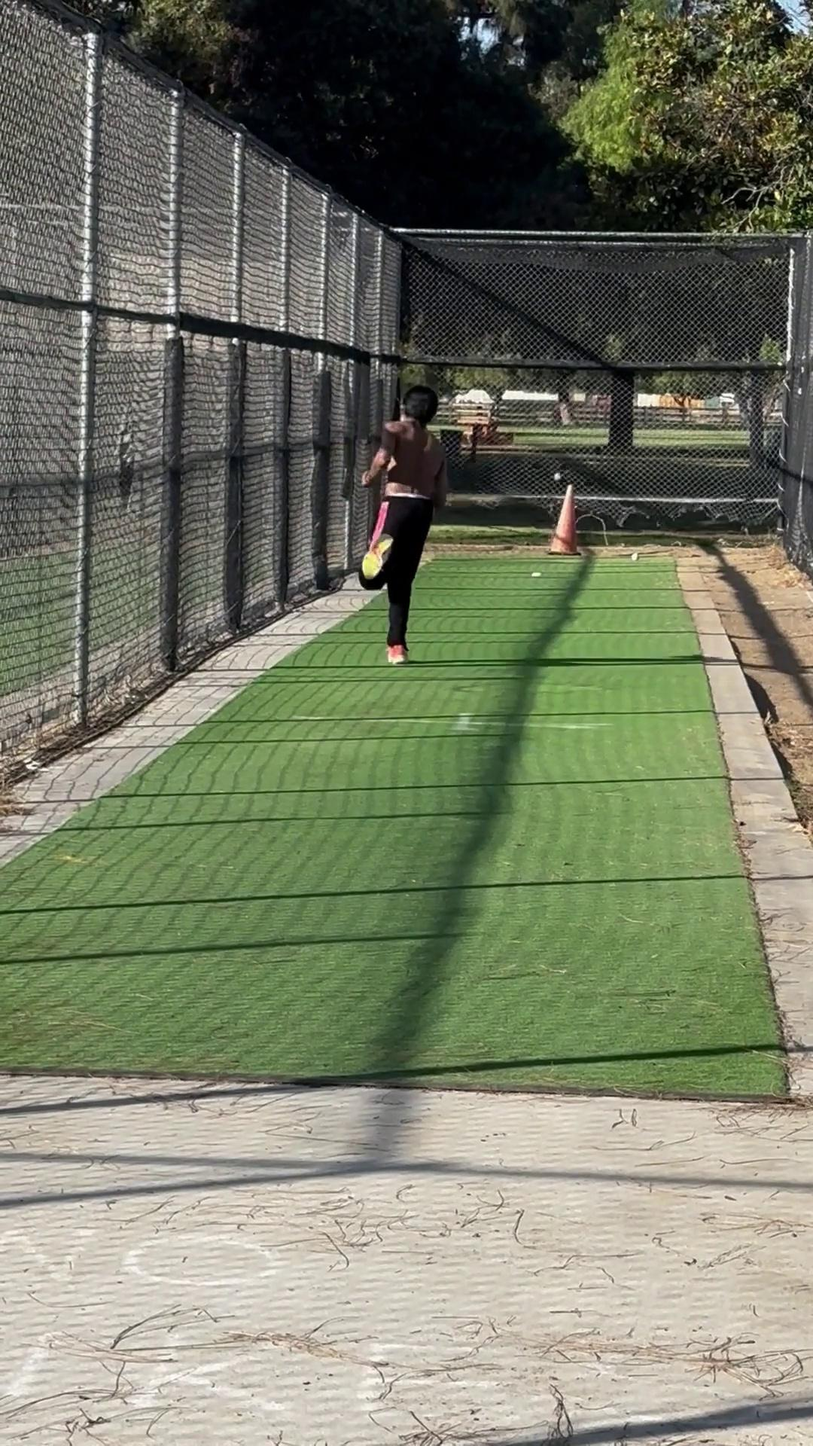ball: (551, 471, 564, 483)
